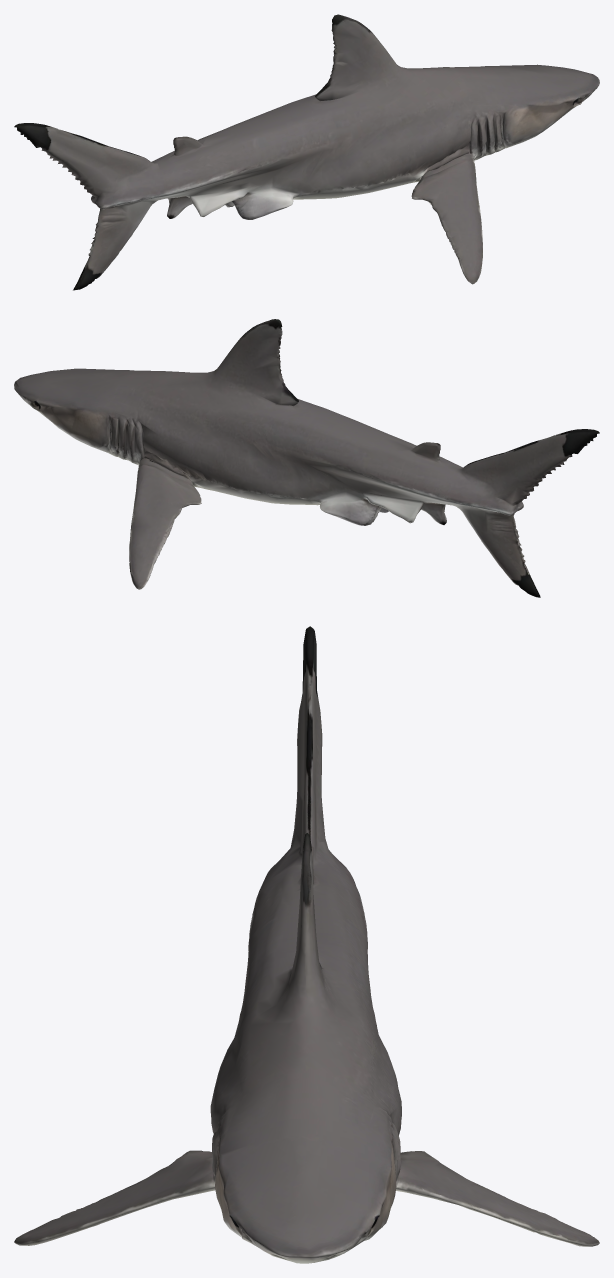
Rendered from blacktip.glb.
3 renders of one model, top to bottom at view 1: azimuth 30°, elevation 25°; view 2: azimuth 150°, elevation 25°; view 3: azimuth 270°, elevation 25°, orthographic. The views are drawn at different scales.
Parts seen in each view (by area): view 1: tripo_node_815e6d1b-1b2f-439b-a25b-08b5722afc2b; view 2: tripo_node_815e6d1b-1b2f-439b-a25b-08b5722afc2b; view 3: tripo_node_815e6d1b-1b2f-439b-a25b-08b5722afc2b.
Boxes of the visible parts, <box> form: tripo_node_815e6d1b-1b2f-439b-a25b-08b5722afc2b: <box>14,14,599,290</box>; tripo_node_815e6d1b-1b2f-439b-a25b-08b5722afc2b: <box>14,319,599,597</box>; tripo_node_815e6d1b-1b2f-439b-a25b-08b5722afc2b: <box>14,626,599,1263</box>.
Bounding box in the file's own units: 1 × 0.3593 × 0.5186.
Materials: 1 (1 with a texture image).
